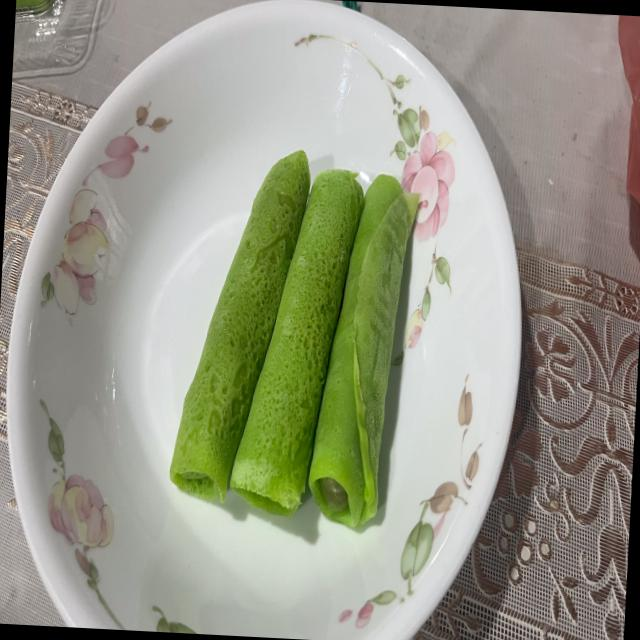Kuih-Ketayap: (170, 150, 310, 502), (230, 169, 364, 516), (309, 176, 419, 527)
